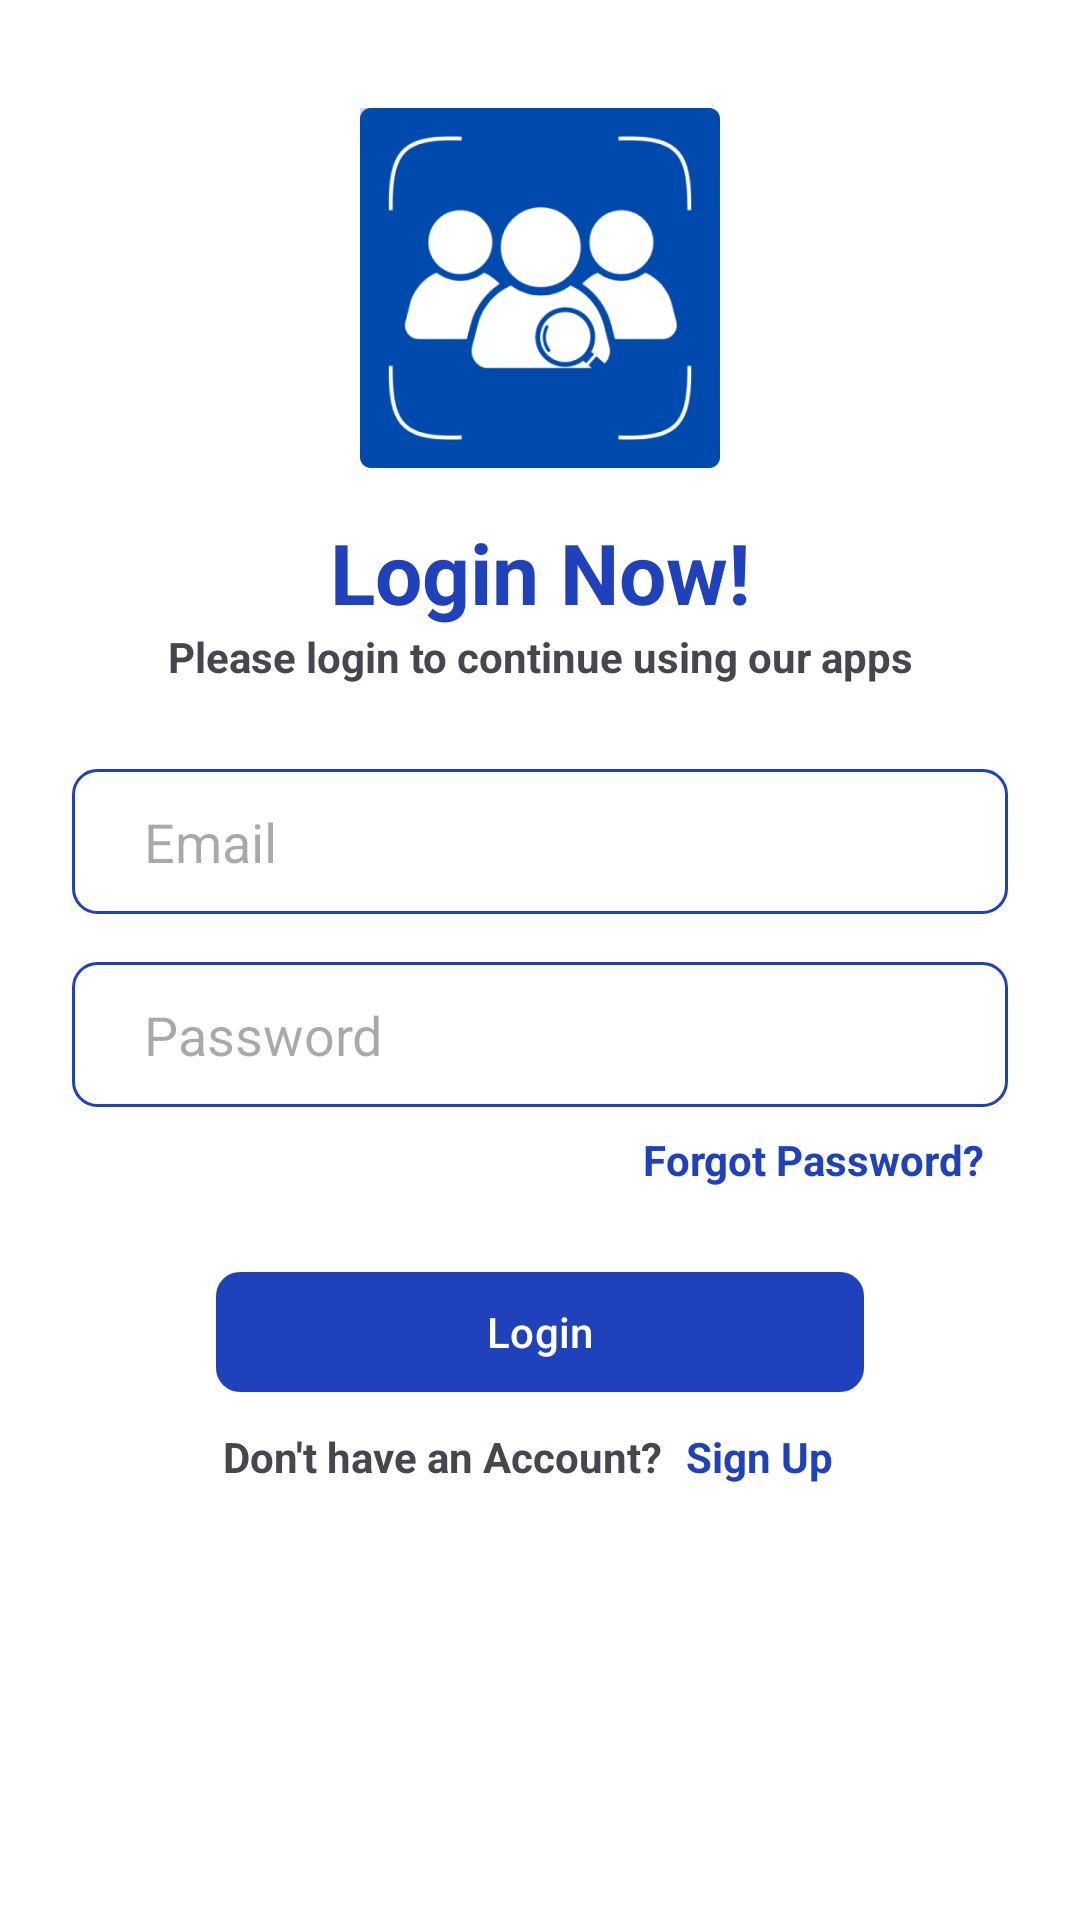

Named icons in this screenshot (1080×1920) and their bounding boxes, (x1, y1, x2, y2):
joblense: (360, 108, 720, 468)
